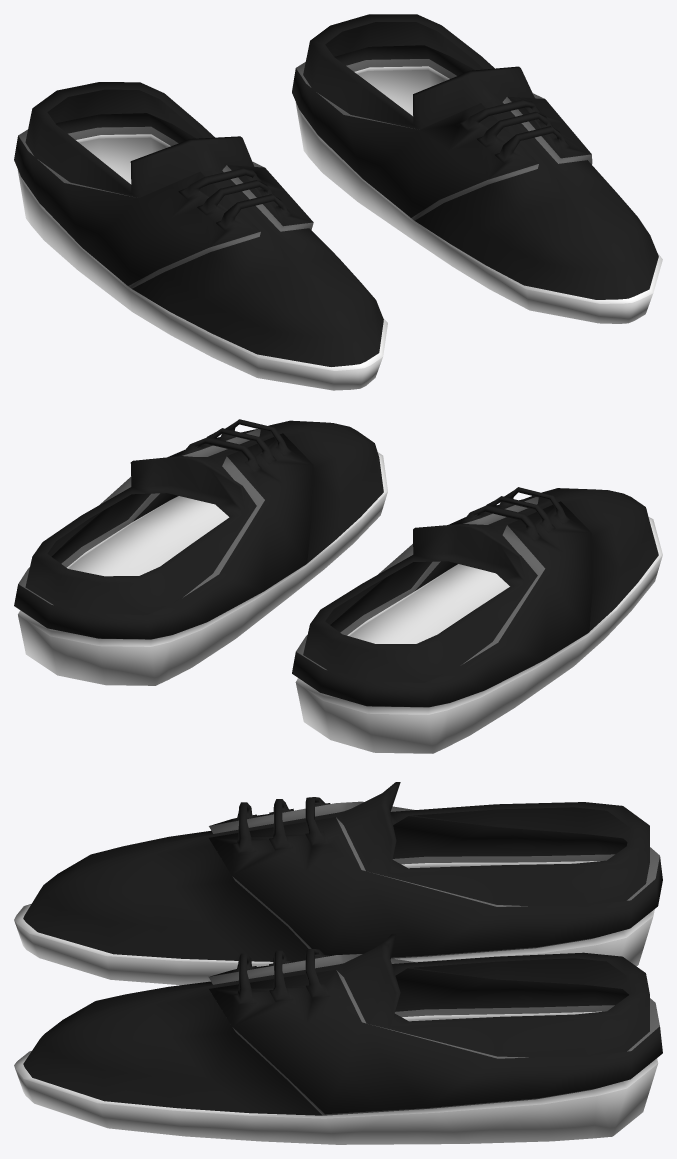
File: M_Feet_ClassiShoes.glb
The picture shows the model from 3 angles, top to bottom: view 1: azimuth 30°, elevation 25°; view 2: azimuth 150°, elevation 25°; view 3: azimuth 270°, elevation 25°; orthographic projection. The views are drawn at different scales.
Visible parts, largest first — view 1: M_Feet_ClassiShoes; view 2: M_Feet_ClassiShoes; view 3: M_Feet_ClassiShoes.
Boxes of the visible parts, <box> form: M_Feet_ClassiShoes: <box>14,14,662,390</box>; M_Feet_ClassiShoes: <box>14,419,662,753</box>; M_Feet_ClassiShoes: <box>14,782,662,1144</box>.
Size of what is drawn, in the model's own units: 0.9461 by 0.2679 by 1.03.
1 material, 1 textured.
